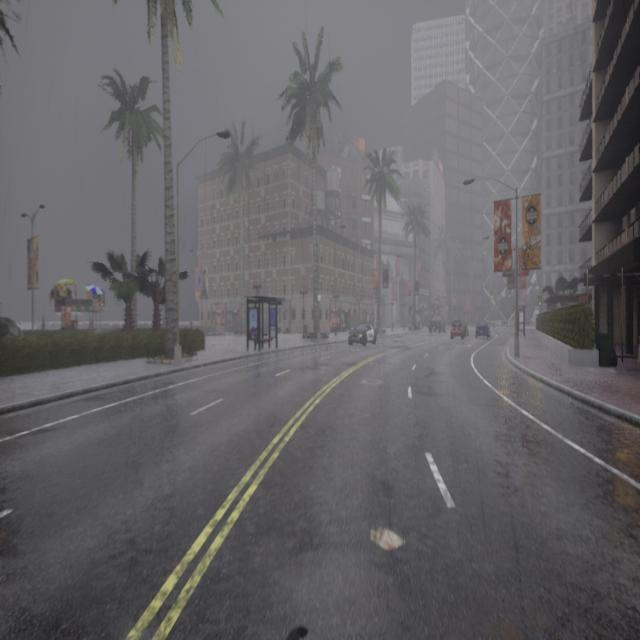bien_chi_dan: (489, 289, 494, 300), (508, 288, 512, 299), (538, 296, 542, 306), (538, 301, 542, 306), (508, 294, 512, 298), (490, 294, 493, 299)
